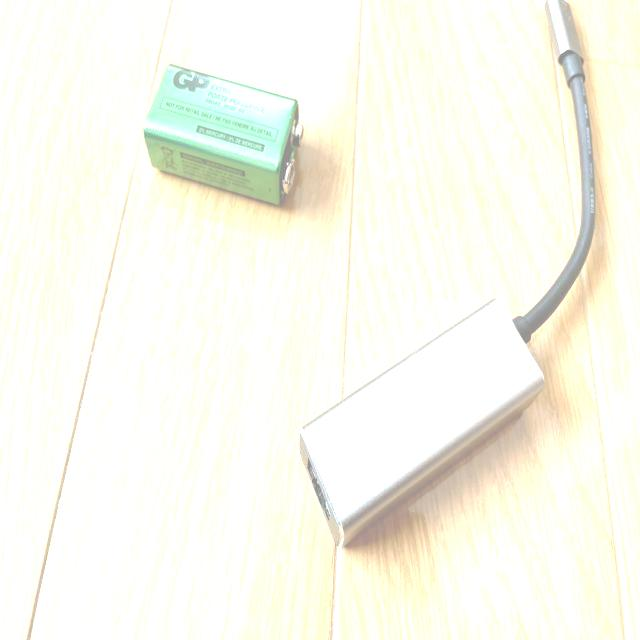9V: (143, 65, 304, 205)
